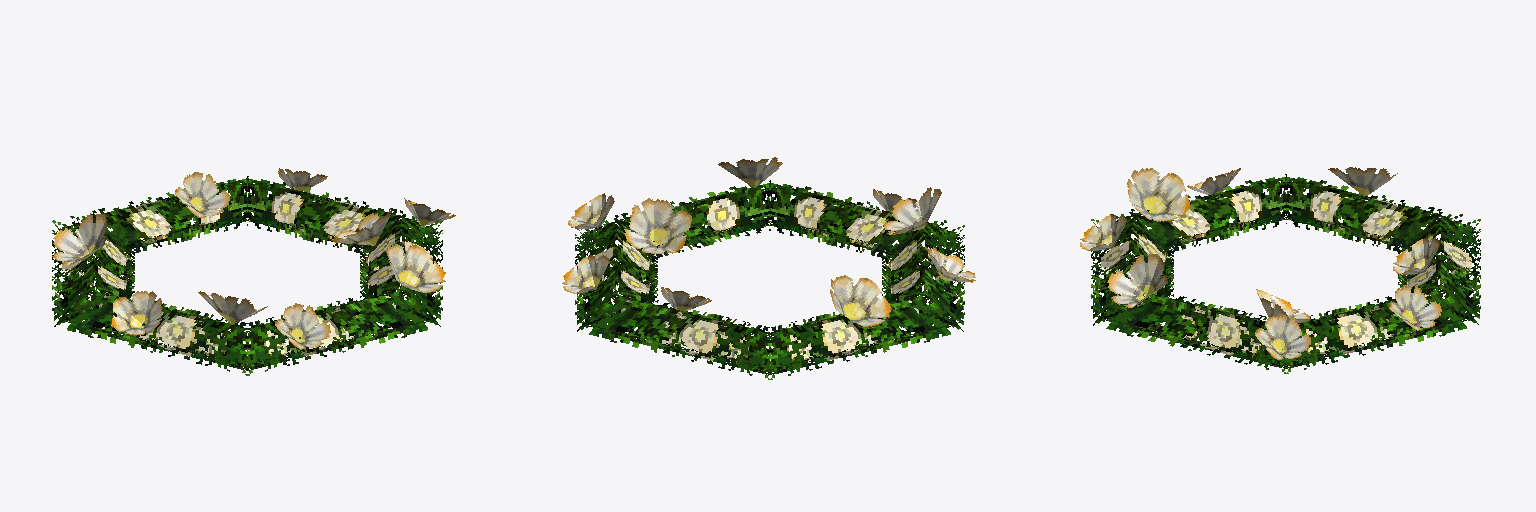
The picture shows the model from 3 angles: view 1: azimuth 30°, elevation 25°; view 2: azimuth 150°, elevation 25°; view 3: azimuth 270°, elevation 25°; orthographic projection.
Parts seen in each view (by area): view 1: object 1; view 2: object 1; view 3: object 1.
Part boxes in pixels (left/top/right/bottom): object 1: left=52, top=168, right=455, bottom=375; object 1: left=562, top=157, right=975, bottom=379; object 1: left=1080, top=167, right=1480, bottom=373.
Size of the model in its own units: 1.57 by 0.3061 by 1.36.
1 materials, 1 textured.